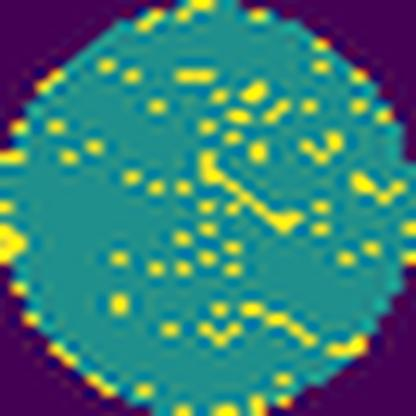Scratch: (195, 145, 309, 241), (239, 296, 319, 352)
